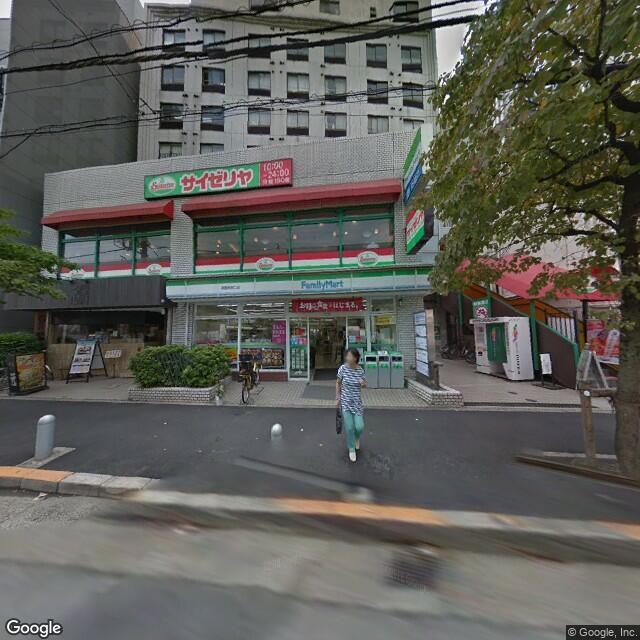family_mart: (165, 261, 437, 305), (401, 122, 428, 189)
